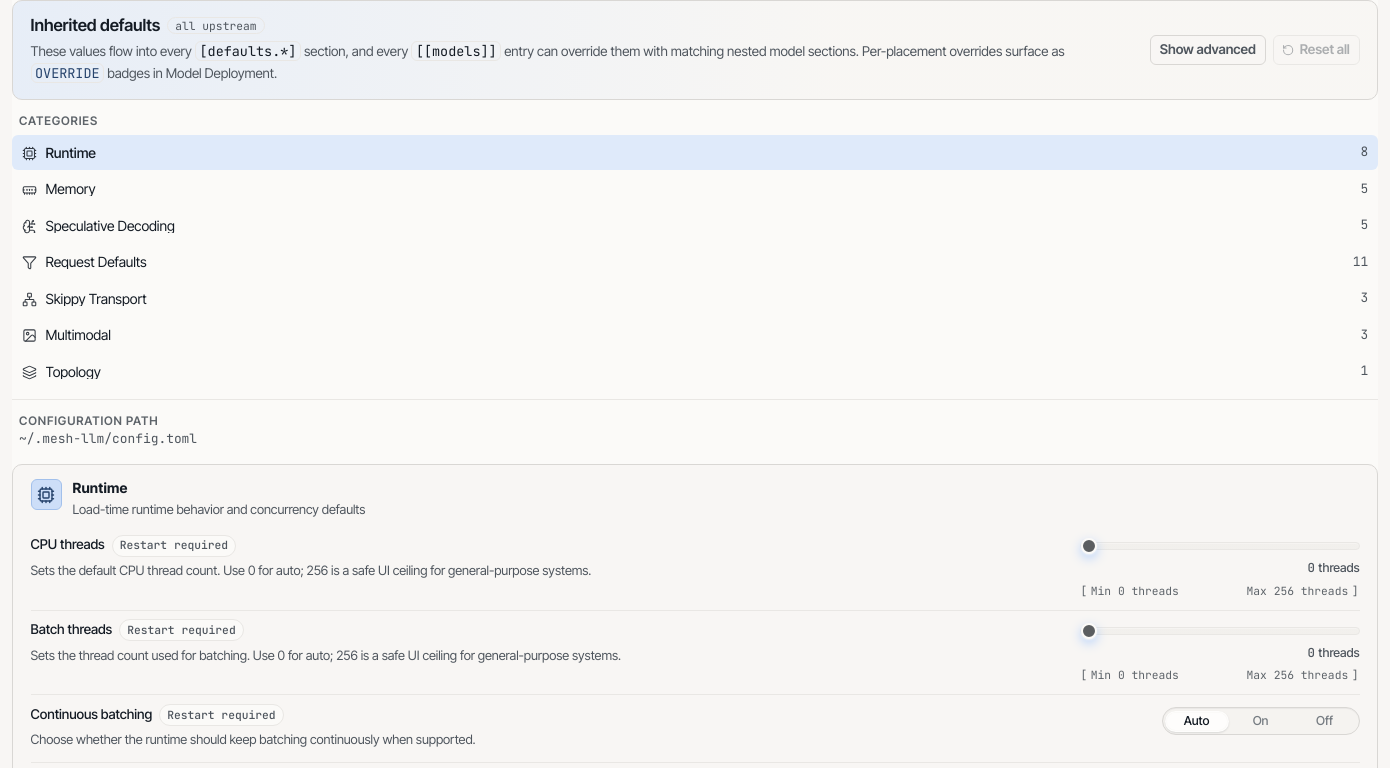
Scenario: DefaultsTab visual inventory and metadata › keeps advanced filtering consistent across real category counts, rows, and section visibility
This screenshot has width=1390, height=768.
Click the button "Show advanced" at (1208, 50), box [1150,35,1266,65]
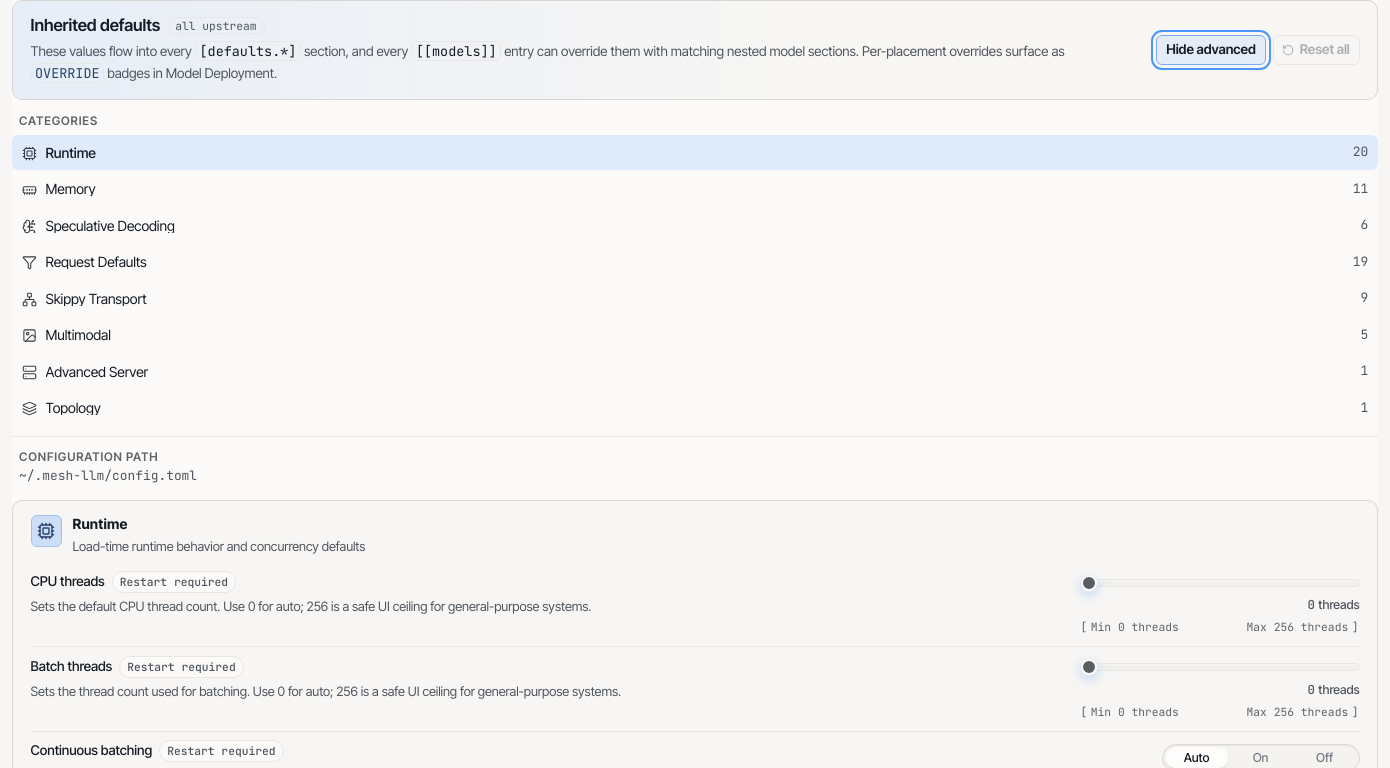
Expected: the button "Advanced Server 1" is shown
Click the button "Advanced Server 1" at (97, 371), box [12,354,1378,389]
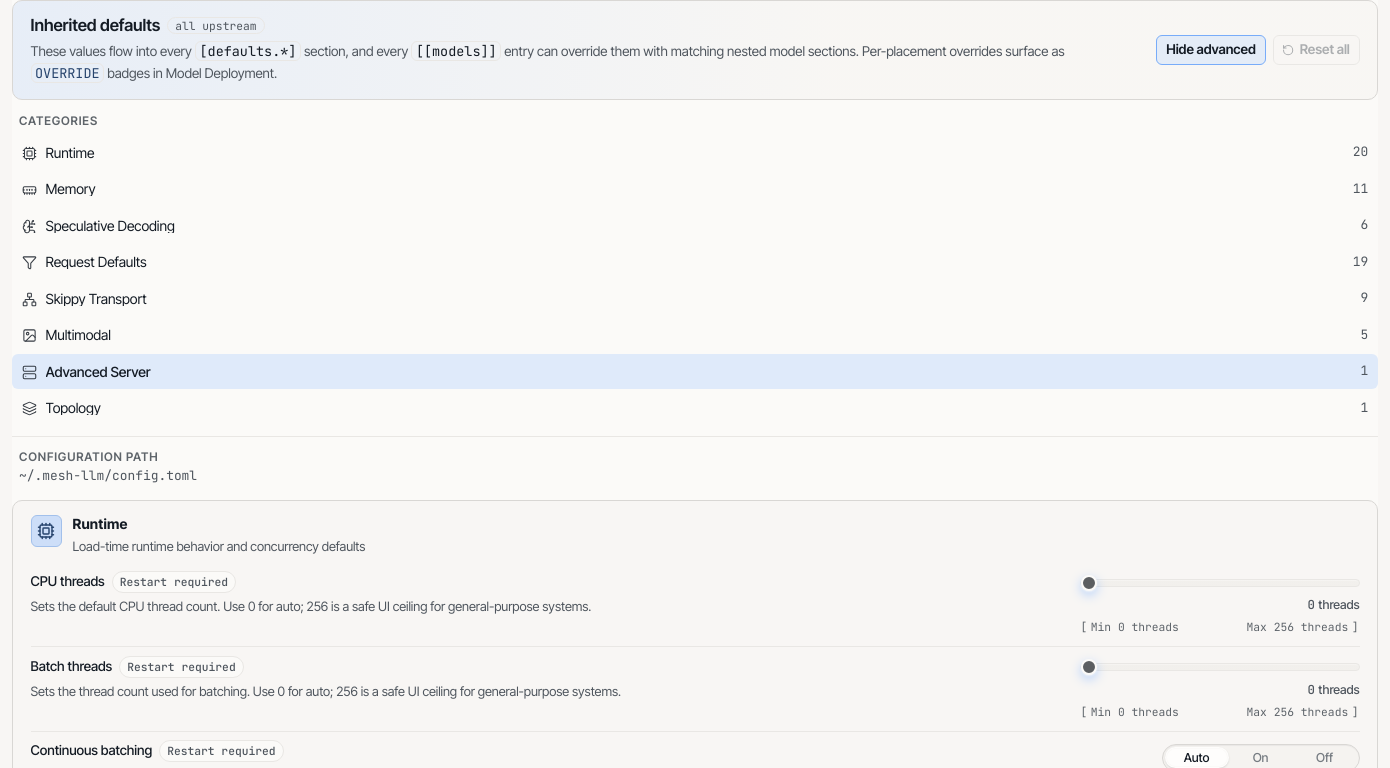
Expected: the button "Advanced Server 1" is marked as current, [12,354,1378,389]
Click the button "Hide advanced" at (1211, 50), box [1156,35,1266,65]
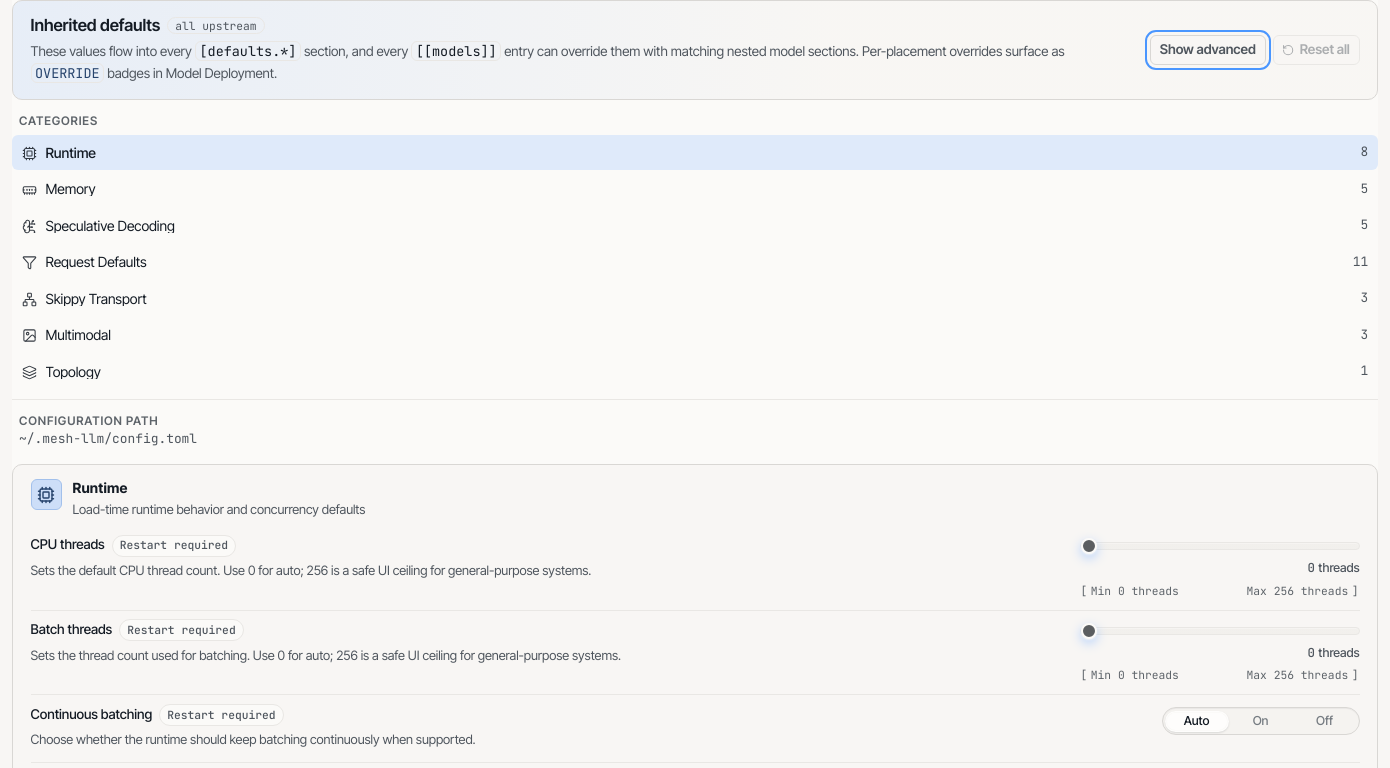
Expected: the button "Advanced Server" is gone
